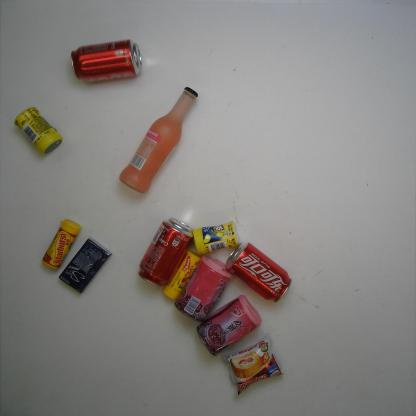Alcohol: (120, 84, 200, 194)
Candy: (42, 218, 81, 270), (162, 250, 201, 300)
Canned Food: (196, 290, 261, 355), (173, 258, 234, 322)
Dessert: (218, 334, 287, 398)
Drink: (222, 239, 294, 304), (135, 220, 195, 286), (67, 34, 144, 84)
Gum: (56, 236, 113, 293), (14, 102, 60, 154), (190, 218, 238, 256)
